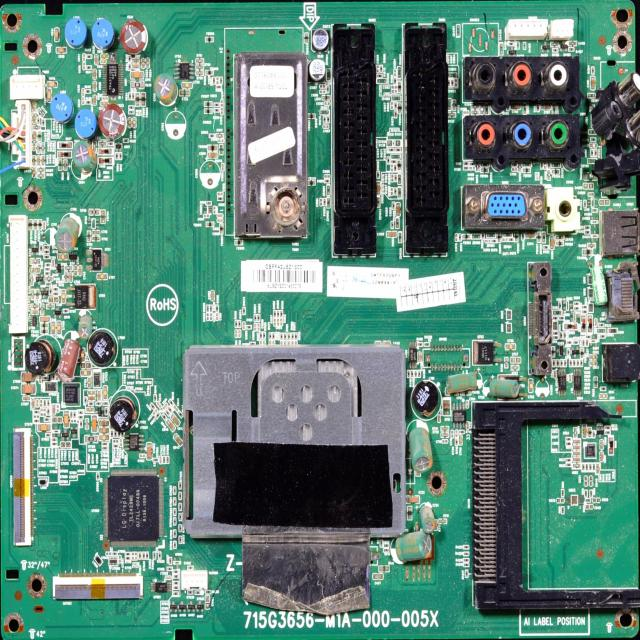Capacitor Jumper: (21, 384, 36, 394), (21, 372, 36, 382), (172, 435, 184, 447), (166, 420, 176, 432), (145, 443, 152, 458), (91, 416, 97, 432), (171, 414, 179, 424), (56, 321, 62, 334), (64, 412, 69, 427), (131, 72, 143, 78), (103, 385, 108, 399), (373, 573, 383, 580), (205, 595, 210, 609), (47, 81, 57, 88), (182, 82, 192, 89), (376, 181, 381, 195), (550, 236, 555, 250), (30, 257, 40, 264), (61, 289, 66, 303), (207, 152, 218, 158), (525, 232, 536, 238), (396, 203, 401, 216), (51, 321, 56, 334), (54, 28, 59, 41), (52, 417, 62, 423), (99, 428, 109, 434), (47, 89, 52, 101), (512, 104, 522, 110), (599, 200, 609, 206), (97, 274, 107, 280), (40, 316, 50, 322), (80, 362, 90, 368), (529, 378, 533, 392), (156, 401, 163, 409), (591, 76, 595, 90), (583, 184, 594, 189), (386, 232, 397, 237), (30, 268, 41, 273), (61, 442, 70, 448), (57, 47, 66, 53), (583, 425, 587, 438), (81, 348, 85, 361), (540, 104, 550, 109), (58, 254, 68, 259), (511, 357, 521, 362), (162, 402, 168, 410), (87, 390, 96, 395), (100, 421, 109, 426), (572, 439, 581, 444), (572, 445, 581, 450), (158, 455, 163, 464), (506, 344, 515, 349), (93, 69, 97, 80), (132, 117, 136, 128), (78, 265, 82, 276), (152, 409, 159, 415), (600, 393, 608, 398), (88, 396, 96, 401), (22, 396, 30, 401), (52, 405, 56, 415), (100, 435, 108, 440), (458, 435, 462, 445), (600, 439, 604, 449), (573, 451, 581, 456), (596, 464, 600, 474), (584, 476, 588, 486), (556, 498, 564, 503), (146, 58, 150, 68), (141, 58, 145, 68), (93, 82, 97, 92), (93, 95, 97, 105), (32, 168, 36, 178), (92, 230, 100, 235), (69, 272, 73, 282), (81, 371, 91, 375), (568, 374, 572, 383), (31, 399, 35, 408), (173, 405, 179, 411), (600, 452, 604, 461), (589, 476, 593, 485), (32, 102, 36, 111), (33, 112, 36, 124), (139, 453, 146, 458), (586, 504, 593, 509), (101, 54, 108, 59), (165, 575, 172, 580), (74, 265, 77, 276), (86, 408, 94, 412), (572, 458, 580, 462), (118, 555, 122, 563), (132, 59, 140, 63), (82, 62, 86, 70), (31, 310, 39, 314), (276, 318, 280, 326), (589, 355, 597, 359), (589, 361, 597, 365), (88, 378, 91, 388), (40, 412, 46, 417), (128, 118, 131, 128), (33, 131, 36, 141), (37, 156, 40, 166), (211, 291, 214, 301), (418, 352, 421, 362), (593, 498, 600, 502), (132, 64, 139, 68), (590, 144, 597, 148), (217, 192, 224, 196), (98, 391, 101, 400), (95, 55, 98, 64), (36, 400, 39, 408), (56, 405, 59, 413), (40, 408, 46, 412), (466, 422, 469, 430), (100, 60, 106, 64), (376, 65, 379, 73), (101, 102, 107, 106), (218, 139, 224, 143), (544, 162, 547, 170), (391, 164, 394, 172), (512, 168, 518, 172), (588, 192, 594, 196), (213, 206, 216, 214), (485, 239, 491, 243), (280, 318, 283, 326), (257, 323, 260, 331), (254, 323, 257, 331), (235, 330, 238, 338), (238, 330, 241, 338), (383, 341, 391, 344), (375, 341, 381, 345), (56, 372, 59, 380), (39, 377, 42, 384), (466, 401, 469, 408), (455, 430, 458, 437), (451, 431, 454, 438), (216, 77, 219, 84), (220, 100, 223, 107), (455, 234, 458, 241), (34, 415, 39, 419), (132, 552, 137, 556), (442, 440, 448, 443), (106, 552, 112, 555), (320, 85, 326, 88), (391, 86, 397, 89), (320, 90, 326, 93), (102, 97, 108, 100), (324, 102, 330, 105), (220, 108, 223, 114), (323, 125, 329, 128), (469, 167, 475, 170), (324, 175, 330, 178), (217, 214, 223, 217), (217, 219, 223, 222), (502, 238, 508, 241), (269, 340, 272, 346), (455, 79, 457, 87), (222, 164, 224, 172), (392, 174, 394, 182), (391, 187, 393, 195), (43, 221, 45, 229), (274, 318, 276, 326), (243, 322, 245, 330), (554, 370, 556, 378), (132, 557, 137, 560), (204, 214, 209, 217), (272, 340, 275, 345), (40, 400, 42, 407), (438, 415, 440, 422), (120, 439, 122, 446), (83, 54, 85, 61), (82, 89, 84, 96), (82, 97, 84, 104), (391, 102, 393, 109), (33, 144, 35, 151), (216, 313, 218, 320), (595, 319, 597, 326), (114, 440, 118, 443), (394, 70, 396, 76), (320, 199, 322, 205), (207, 314, 209, 320), (210, 314, 212, 320), (291, 341, 294, 345), (71, 420, 76, 422), (264, 341, 266, 346), (392, 90, 396, 92), (295, 341, 297, 345), (260, 341, 262, 345), (288, 341, 290, 345), (281, 341, 283, 345), (284, 341, 286, 345)
Connector: (14, 428, 34, 546), (53, 573, 143, 598), (506, 19, 548, 40), (181, 570, 208, 590), (549, 19, 573, 40)
IC: (102, 470, 164, 547), (474, 342, 502, 364), (103, 65, 123, 95), (67, 287, 93, 306), (87, 249, 106, 271), (63, 383, 80, 406), (149, 580, 173, 596), (452, 403, 466, 427), (175, 63, 194, 79), (125, 434, 144, 449), (409, 341, 417, 368), (558, 370, 566, 396), (574, 370, 581, 395), (584, 443, 596, 457), (566, 496, 583, 505), (588, 198, 598, 208), (70, 253, 77, 261)
Resistor Jumper: (132, 81, 144, 89), (37, 106, 45, 116), (89, 209, 100, 216), (48, 297, 59, 303), (379, 566, 389, 572), (180, 90, 190, 96), (63, 160, 68, 170), (165, 409, 171, 417), (196, 64, 204, 70), (32, 155, 36, 166), (41, 155, 45, 166), (87, 231, 91, 242), (152, 395, 158, 402), (441, 426, 448, 432), (594, 377, 598, 387), (569, 41, 577, 46), (172, 498, 177, 506), (178, 524, 183, 532), (196, 58, 204, 63), (216, 133, 224, 138), (98, 141, 106, 146), (41, 143, 45, 153), (36, 143, 40, 153), (58, 160, 62, 170), (37, 167, 45, 172), (37, 173, 45, 178), (35, 289, 39, 299), (31, 289, 35, 299), (46, 304, 54, 309), (40, 304, 44, 314), (504, 358, 508, 368), (511, 365, 519, 370), (150, 402, 156, 408), (178, 492, 182, 501), (174, 517, 178, 526), (573, 463, 580, 468), (588, 243, 595, 248), (598, 323, 605, 328), (162, 413, 166, 421), (441, 433, 449, 437), (173, 486, 177, 494), (178, 503, 182, 511), (173, 508, 177, 516), (178, 513, 182, 521), (173, 530, 177, 538), (173, 541, 177, 549), (128, 92, 132, 100), (32, 125, 40, 129), (540, 162, 544, 170), (31, 304, 39, 308), (234, 320, 238, 328), (585, 339, 589, 347), (560, 359, 564, 367), (576, 359, 580, 367), (93, 141, 96, 151), (518, 162, 521, 172), (592, 430, 596, 437), (551, 42, 558, 46), (142, 552, 146, 559), (196, 71, 203, 75), (472, 110, 479, 114), (45, 277, 52, 281), (262, 332, 266, 339), (283, 333, 287, 340), (268, 333, 272, 340), (556, 359, 560, 366), (572, 359, 576, 366), (167, 455, 170, 464), (163, 455, 166, 464), (179, 535, 182, 544), (326, 85, 329, 94), (553, 331, 558, 336), (600, 334, 605, 339), (84, 396, 87, 404), (168, 406, 172, 412), (105, 407, 108, 415), (34, 410, 40, 414), (44, 418, 50, 422), (508, 42, 514, 46), (45, 433, 51, 437), (566, 458, 572, 462), (589, 463, 592, 471), (582, 464, 585, 472), (178, 482, 182, 488), (561, 489, 564, 497), (568, 48, 574, 52), (585, 498, 591, 502), (112, 552, 118, 556), (463, 552, 469, 556), (153, 552, 156, 560), (138, 552, 141, 560), (125, 556, 131, 560), (169, 557, 172, 565), (188, 566, 194, 570), (167, 567, 173, 571), (173, 570, 179, 574), (465, 570, 468, 578), (173, 581, 179, 585), (128, 55, 131, 63), (173, 586, 179, 590), (173, 592, 179, 596), (214, 103, 220, 107), (128, 106, 134, 110), (128, 110, 134, 114), (323, 116, 326, 124), (123, 138, 129, 142), (388, 148, 394, 152), (591, 149, 594, 157), (594, 150, 598, 156), (119, 152, 122, 160), (115, 152, 118, 160), (512, 163, 518, 167), (376, 170, 379, 178), (324, 179, 330, 183), (394, 187, 397, 195), (323, 198, 326, 206), (592, 208, 598, 212), (584, 230, 590, 234), (92, 237, 100, 240), (44, 245, 50, 249), (543, 246, 549, 250), (49, 287, 52, 295), (559, 302, 562, 310), (574, 307, 580, 311), (63, 309, 69, 313), (277, 310, 280, 318), (257, 314, 260, 322), (238, 320, 241, 328), (280, 332, 283, 340), (586, 335, 592, 339), (573, 340, 579, 344), (582, 339, 585, 347), (564, 359, 567, 367), (407, 370, 410, 378), (43, 376, 49, 380), (88, 402, 95, 405), (70, 411, 73, 418), (114, 430, 117, 437), (110, 430, 113, 437), (455, 439, 458, 446), (590, 490, 593, 497), (380, 540, 383, 547), (158, 552, 161, 559), (128, 63, 131, 70), (380, 65, 383, 72), (213, 77, 216, 84), (472, 105, 479, 108), (394, 111, 397, 118), (327, 116, 330, 123), (548, 162, 551, 169), (394, 164, 397, 171), (392, 202, 395, 209), (391, 222, 394, 229), (39, 245, 42, 252), (206, 305, 209, 312), (254, 315, 257, 322), (291, 333, 294, 340), (569, 359, 572, 366), (411, 370, 414, 377), (96, 402, 101, 406), (459, 430, 464, 434), (566, 437, 571, 441), (52, 438, 57, 442), (102, 442, 107, 446), (52, 442, 57, 446), (464, 545, 469, 549), (464, 558, 469, 562), (464, 563, 469, 567), (173, 574, 178, 578), (206, 590, 211, 594), (195, 590, 200, 594), (216, 85, 221, 89), (86, 89, 91, 93), (214, 108, 219, 112), (108, 142, 113, 146), (464, 162, 469, 166), (218, 197, 223, 201), (206, 201, 211, 205), (585, 225, 590, 229), (492, 239, 497, 243), (44, 250, 49, 254), (44, 255, 49, 259), (46, 263, 51, 267), (45, 268, 50, 272), (46, 282, 51, 286), (553, 316, 558, 320), (43, 400, 46, 406), (47, 400, 50, 406), (103, 402, 109, 405), (605, 426, 611, 429), (605, 431, 611, 434), (113, 444, 119, 447), (152, 458, 158, 461), (125, 552, 131, 555), (220, 77, 223, 83), (451, 80, 454, 86), (463, 111, 469, 114), (209, 134, 215, 137), (590, 138, 596, 141), (386, 157, 389, 163), (463, 167, 469, 170), (508, 238, 514, 241), (242, 308, 245, 314), (246, 326, 252, 329), (560, 332, 563, 338), (553, 336, 559, 339), (424, 343, 430, 346), (580, 360, 583, 366), (52, 374, 55, 380), (593, 463, 595, 471), (586, 463, 588, 471), (585, 489, 587, 497), (562, 506, 564, 514), (42, 119, 44, 127), (584, 200, 586, 208), (459, 234, 461, 242), (54, 292, 58, 296), (216, 305, 218, 313), (560, 316, 564, 320), (295, 332, 297, 340), (272, 332, 274, 340), (418, 342, 422, 346), (415, 370, 417, 378), (78, 411, 83, 414), (553, 49, 558, 52), (384, 549, 389, 552), (87, 55, 92, 58), (188, 591, 193, 594), (86, 66, 91, 69), (377, 74, 382, 77), (86, 101, 91, 104), (396, 148, 401, 151), (470, 162, 475, 165), (45, 272, 50, 275), (53, 288, 58, 291), (574, 302, 579, 305), (582, 305, 587, 308), (567, 341, 572, 344), (47, 408, 49, 415), (74, 411, 76, 418), (517, 42, 519, 49), (524, 42, 526, 49), (97, 473, 99, 480), (146, 552, 148, 559), (592, 67, 594, 74), (394, 77, 396, 84), (448, 79, 450, 86), (132, 93, 134, 100), (395, 102, 397, 109), (537, 105, 539, 112), (38, 118, 40, 125), (395, 174, 397, 181), (522, 233, 524, 240), (210, 305, 212, 312), (281, 310, 283, 317), (274, 311, 276, 318), (260, 332, 262, 339), (288, 333, 290, 340), (553, 359, 555, 366), (418, 370, 420, 377), (170, 400, 173, 404), (80, 421, 82, 427), (566, 442, 570, 445), (566, 464, 572, 466), (384, 544, 388, 547), (392, 160, 396, 163), (482, 232, 484, 238), (583, 310, 587, 313), (564, 332, 566, 338), (78, 416, 83, 418), (34, 420, 39, 422), (102, 447, 107, 449), (118, 433, 120, 437), (122, 433, 123, 437)
Transistor: (187, 600, 195, 612), (178, 600, 186, 612), (62, 428, 69, 441), (96, 407, 105, 417), (560, 41, 568, 52), (542, 41, 550, 52), (557, 346, 566, 355), (196, 602, 204, 612), (597, 427, 604, 438), (170, 601, 177, 612), (572, 347, 579, 358), (71, 426, 77, 438), (508, 47, 516, 56), (32, 244, 38, 256), (36, 275, 44, 284), (56, 263, 63, 273), (41, 288, 48, 298), (55, 308, 62, 318), (115, 142, 122, 151), (31, 318, 38, 326)
